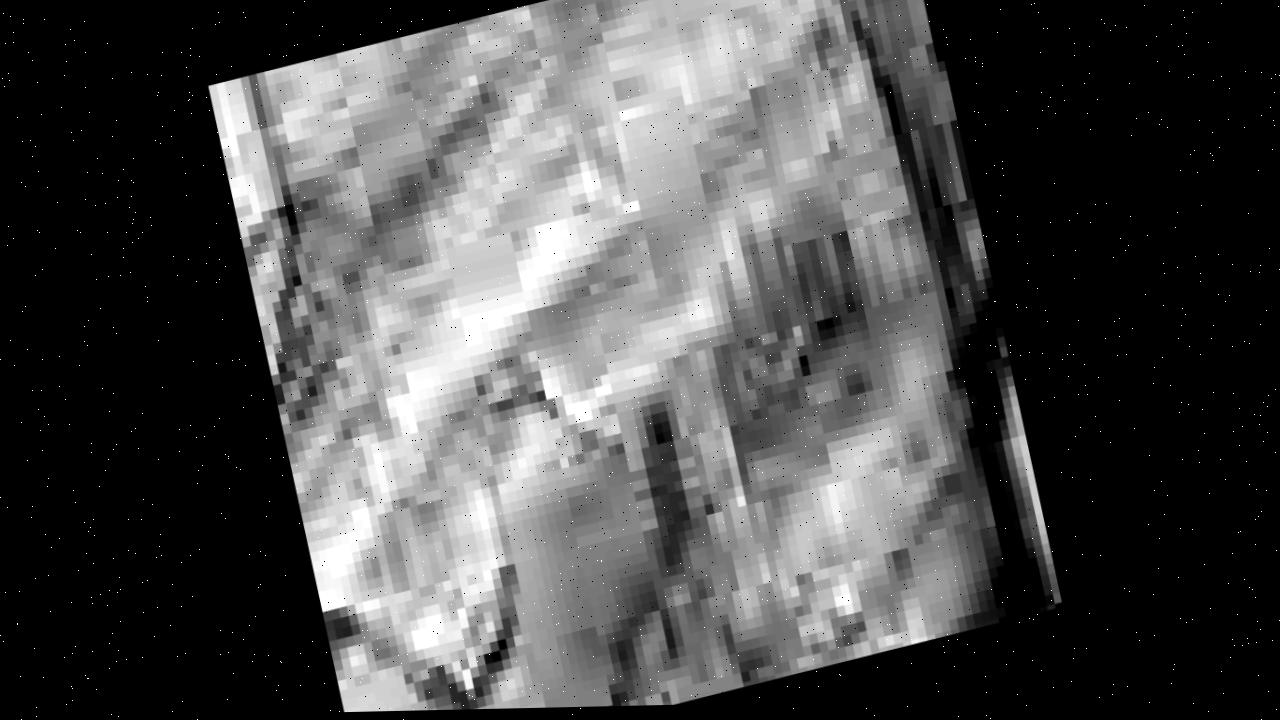Water Stains: (200, 13, 656, 716)
